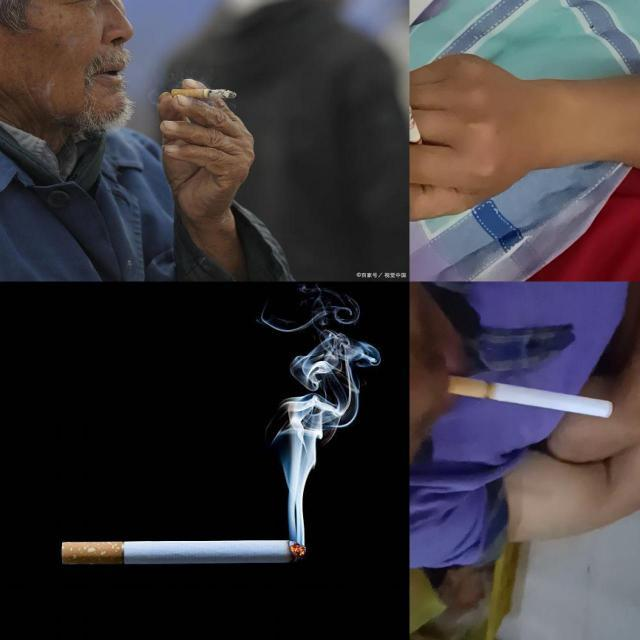smoke: (447, 373, 613, 419), (61, 541, 306, 565), (410, 101, 424, 158), (172, 88, 238, 100)
